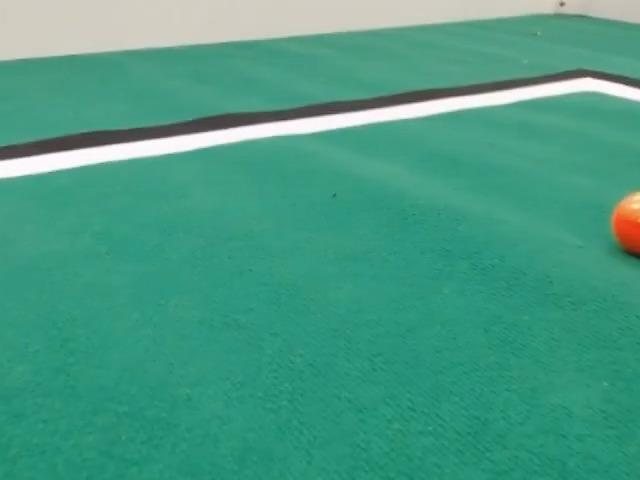Ball: (612, 191, 639, 256)
